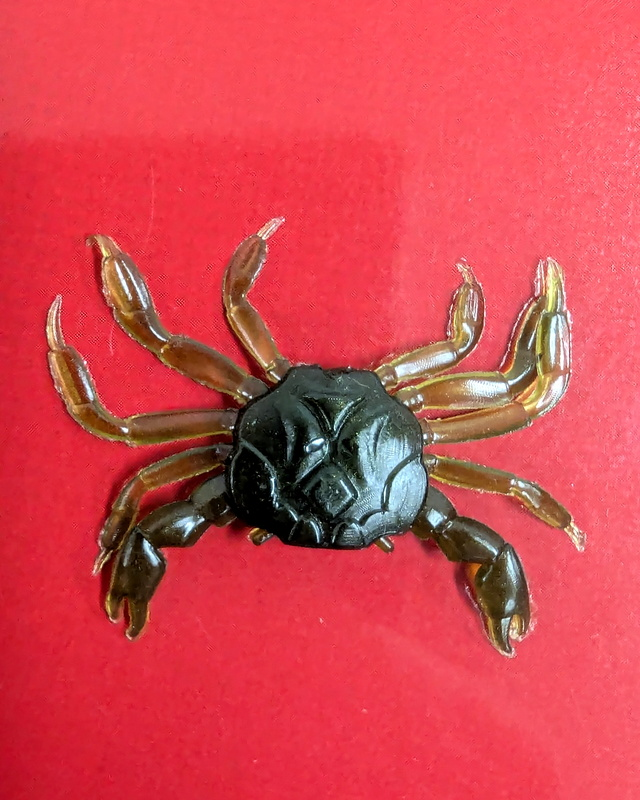crab2: (45, 215, 588, 661)
